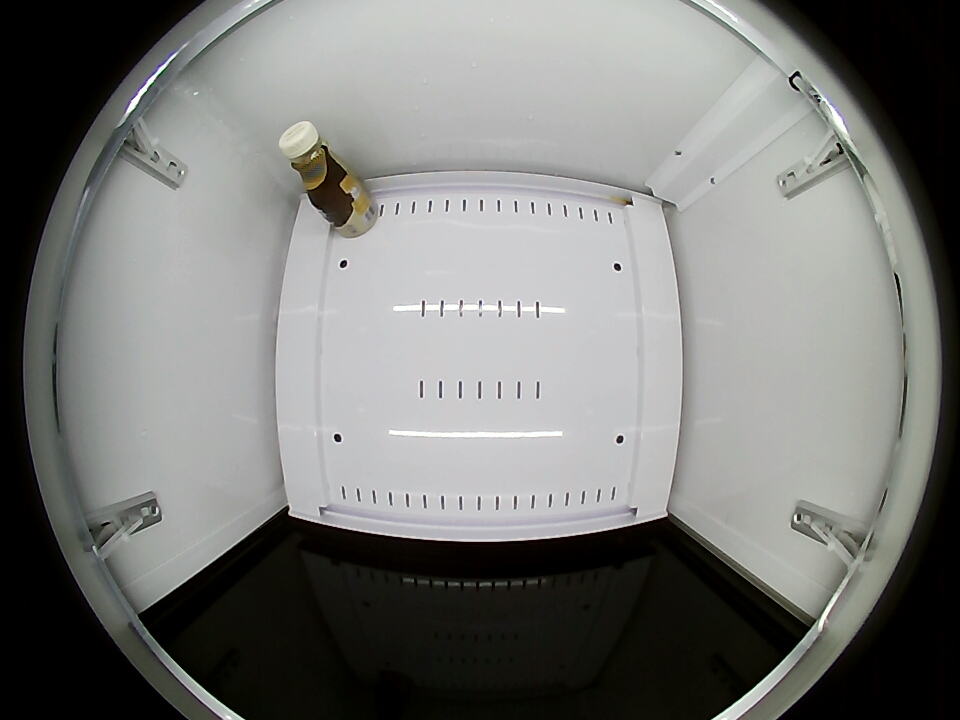kafei: (279, 121, 350, 198)
